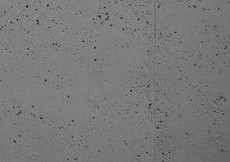Spalling: (1, 1, 230, 162)
